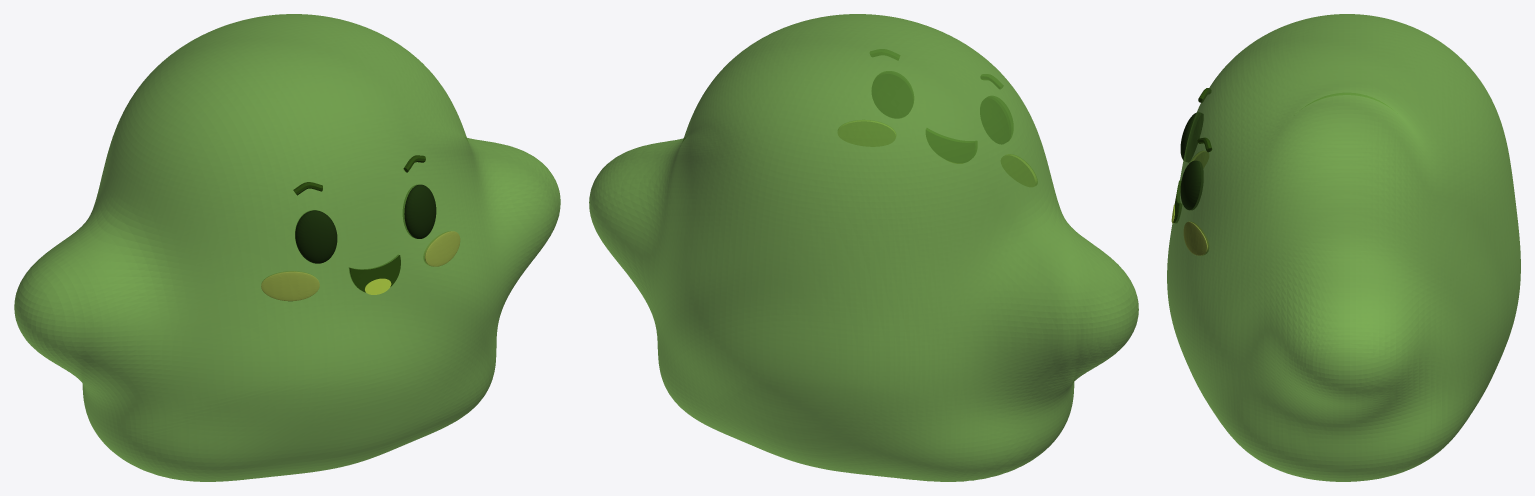
The model's file is jelly_baby_multicolor.obj.
3 renders of one model, left to right at view 1: azimuth 30°, elevation 25°; view 2: azimuth 150°, elevation 25°; view 3: azimuth 270°, elevation 25°, orthographic. The views are drawn at different scales.
Visible parts, largest first — view 1: body, eye_L, eye_R, blush_L, blush_R, mouth; view 2: body, eye_R, blush_R, eye_L, mouth, blush_L; view 3: body, eye_R, eye_L, blush_R.
Boxes of the visible parts, x1,y1,x2,y2 form: body: (14,14,560,481); eye_L: (295,210,337,263); eye_R: (403,184,436,238); blush_L: (261,271,319,301); blush_R: (423,231,460,266); mouth: (349,255,400,292); body: (589,14,1138,481); eye_R: (872,72,913,118); blush_R: (838,120,895,146); eye_L: (980,96,1011,144); mouth: (926,128,976,162); blush_L: (1001,154,1037,186); body: (1167,14,1520,481); eye_R: (1180,160,1203,210); eye_L: (1180,112,1203,162); blush_R: (1183,221,1208,255).
Bounding box in the file's own units: 97.85 × 70 × 58.96.
